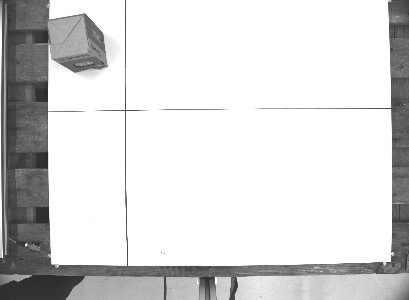b4: (45, 12, 109, 75)
